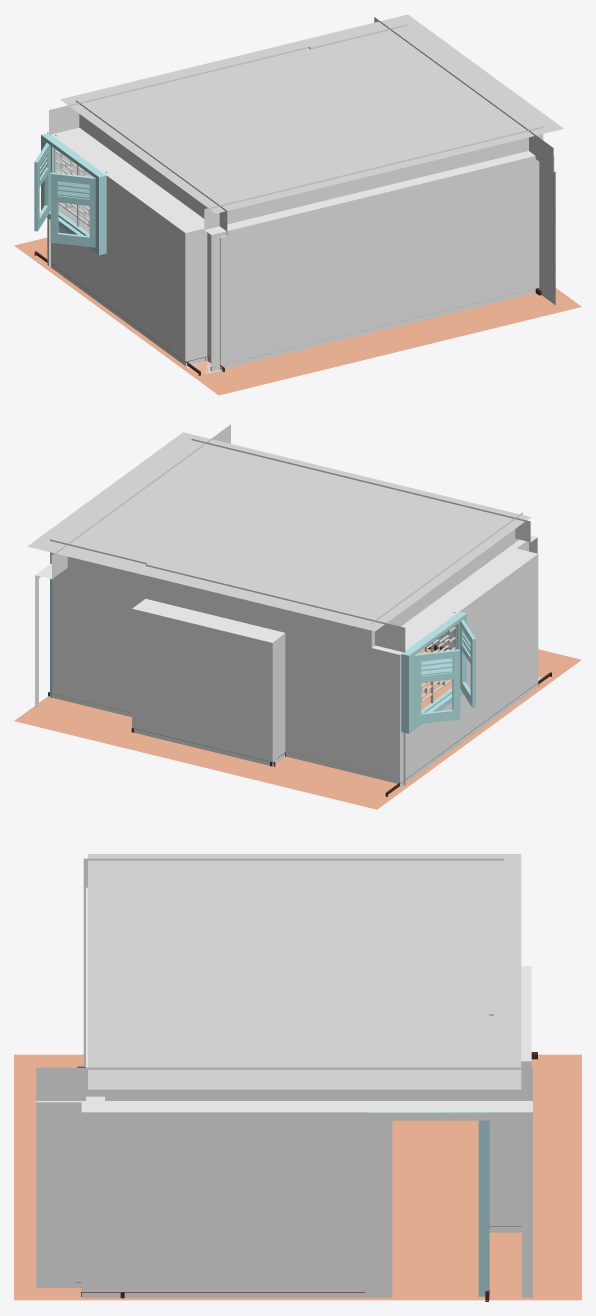
Rendered from room_3pm to 11pm_6sideGround.fbx.
3 views of the same model, one above another, from view 1: azimuth 30°, elevation 25°; view 2: azimuth 150°, elevation 25°; view 3: azimuth 270°, elevation 25° (orthographic). The views are drawn at different scales.
Visible parts, largest first — view 1: roof, wall_l, wall_b, wooden_floor, wall_f, windows.001, windows_frame, wall_r, windows, Plane; view 2: wall_r, roof, wall_b, wooden_floor, windows, windows_frame, wall_f, wall_l, windows.001, Plane; view 3: roof, wall_f, wooden_floor, wall_r, door_frame, wall_b.
Part boxes in pixels (x1,y1,x2,y2): roof: (60, 14, 563, 213); wall_l: (204, 126, 543, 371); wall_b: (47, 100, 227, 374); wooden_floor: (14, 237, 581, 395); wall_f: (374, 17, 555, 304); windows.001: (50, 172, 95, 247); windows_frame: (41, 133, 106, 255); wall_r: (49, 24, 407, 267); windows: (34, 143, 49, 231); Plane: (54, 148, 89, 226); wall_r: (50, 539, 405, 785); roof: (27, 432, 530, 631); wall_b: (371, 512, 542, 787); wooden_floor: (14, 648, 581, 809); windows: (414, 649, 460, 724); windows_frame: (401, 611, 466, 733); wall_f: (35, 424, 230, 708); wall_l: (191, 439, 537, 648); windows.001: (460, 620, 475, 707); Plane: (421, 625, 456, 703); roof: (88, 854, 521, 1089); wall_f: (36, 1067, 532, 1297); wooden_floor: (14, 1054, 581, 1300); wall_r: (489, 966, 531, 1232); door_frame: (367, 1112, 489, 1296); wall_b: (83, 858, 503, 1066).
Size of the model in its own units: 490 by 187 by 431.
